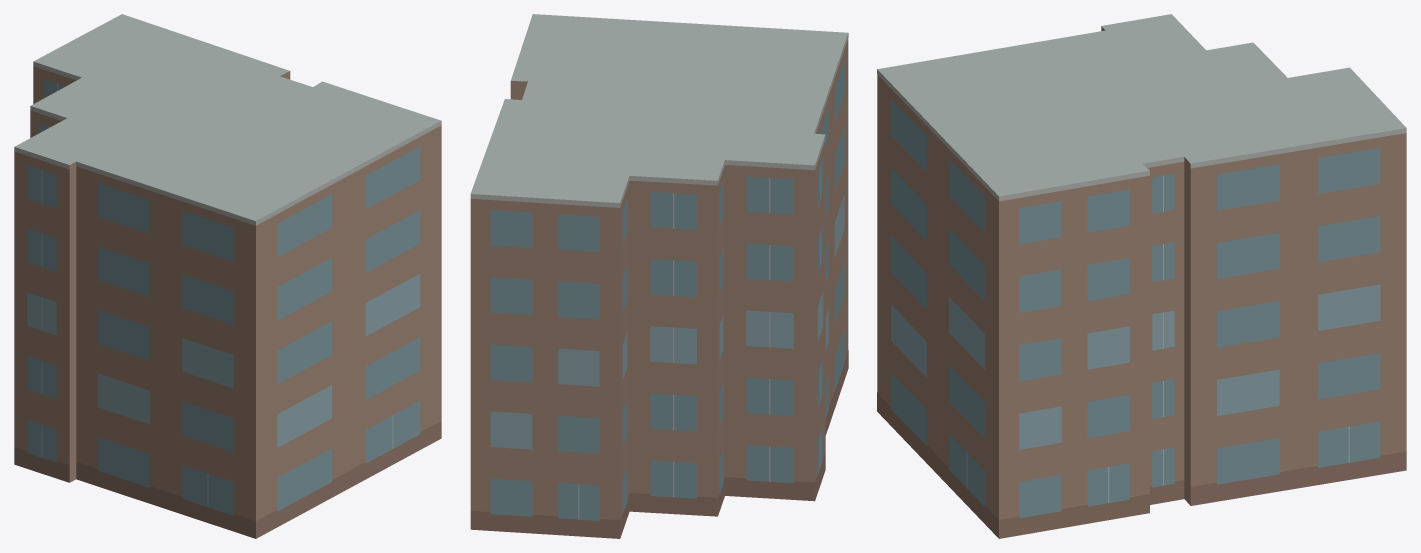
Rendered from survey-upis-32850311.glb.
3 views of the same model, side by side, from view 1: azimuth 30°, elevation 25°; view 2: azimuth 150°, elevation 25°; view 3: azimuth 270°, elevation 25° (orthographic). The views are drawn at different scales.
Visible parts, largest first — view 1: survey-upis-32850311.tmp; view 2: survey-upis-32850311.tmp; view 3: survey-upis-32850311.tmp.
Part boxes in pixels (x1,y1,x2,y2): survey-upis-32850311.tmp: (14, 14, 441, 538); survey-upis-32850311.tmp: (470, 14, 848, 538); survey-upis-32850311.tmp: (877, 14, 1406, 538).
Bounding box in the file's own units: 19.45 × 17 × 23.84.
